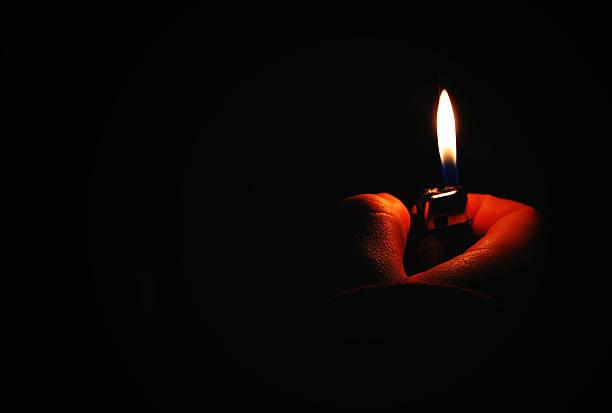Fire: (431, 83, 471, 187)
